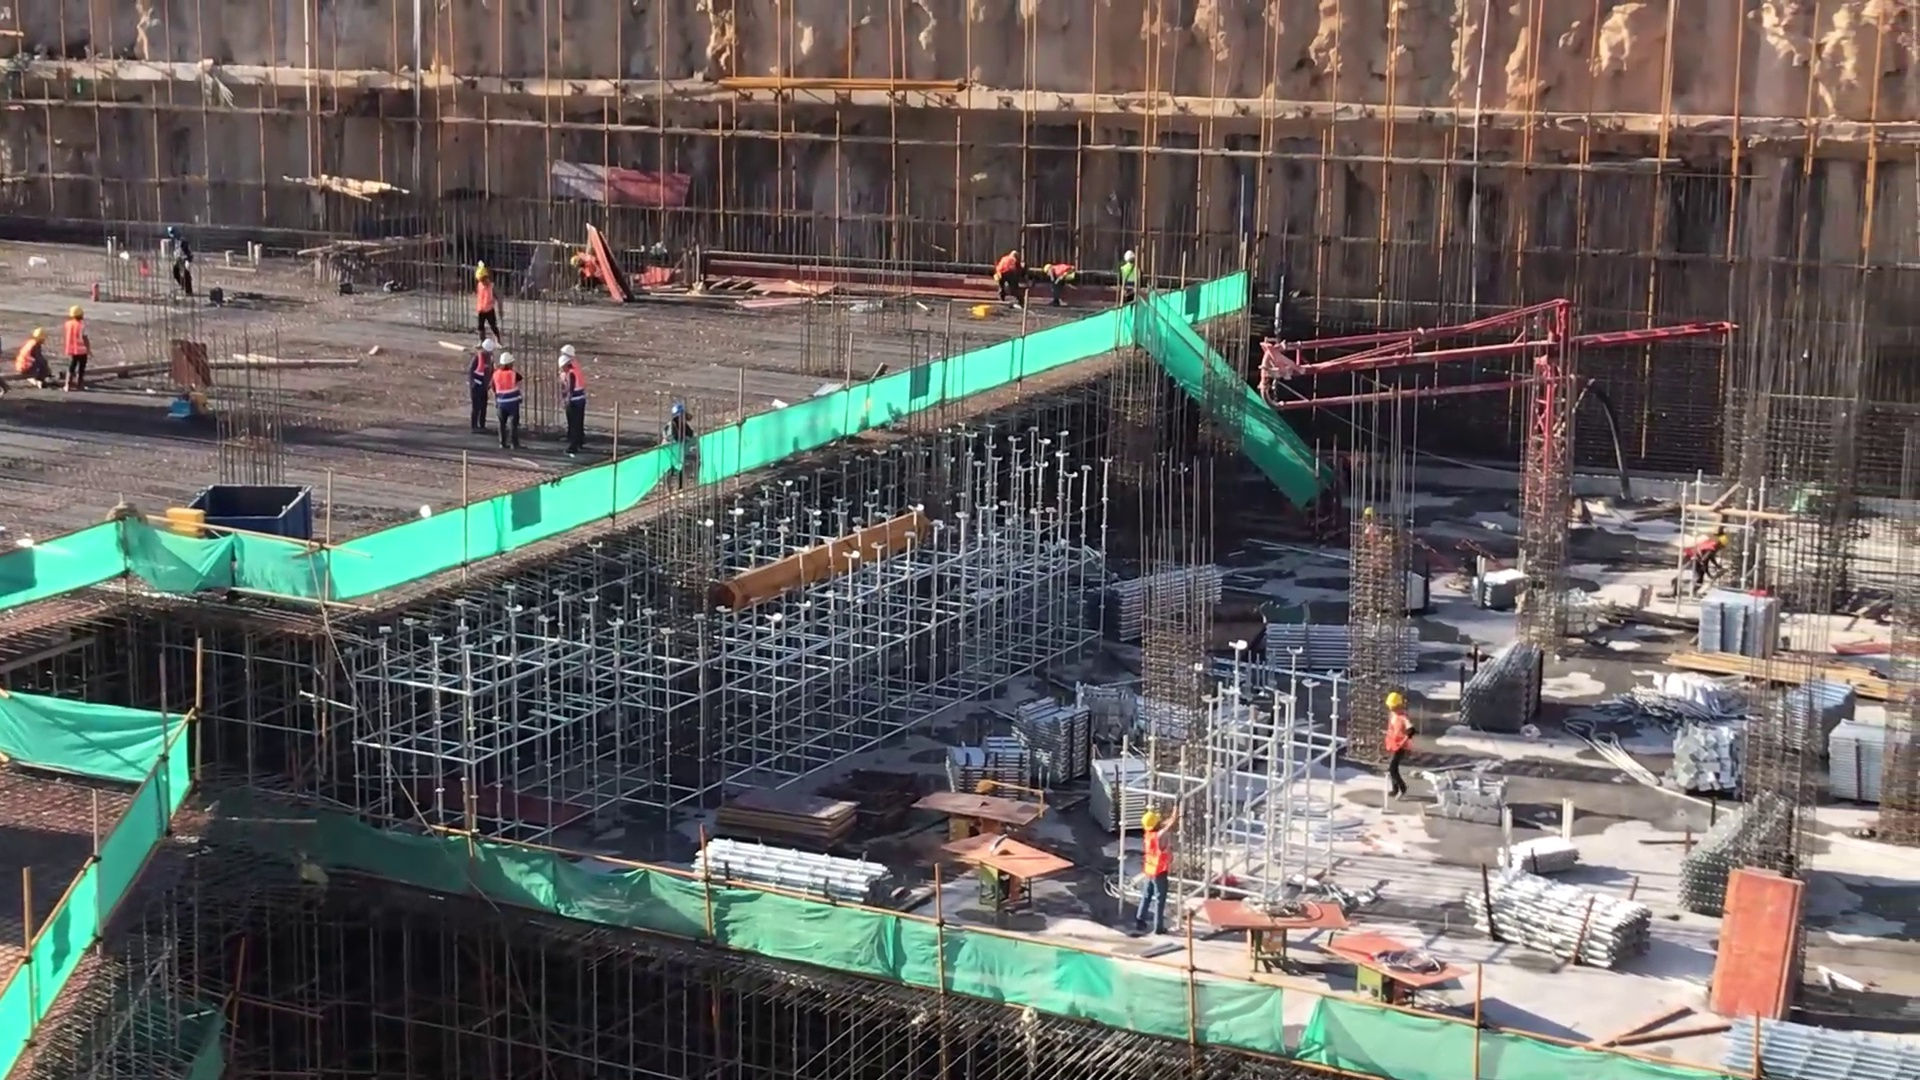board: (1703, 868, 1806, 1021), (705, 787, 862, 842)
brick: (1674, 718, 1751, 798), (1078, 673, 1143, 756)
ebox: (160, 509, 206, 541)
helmet: (1138, 810, 1166, 832), (65, 305, 91, 323), (29, 327, 53, 344), (568, 249, 583, 273), (473, 264, 489, 285), (670, 404, 689, 419), (1385, 695, 1406, 708), (496, 352, 518, 364), (1123, 250, 1139, 266), (554, 355, 573, 367), (561, 341, 576, 356), (165, 224, 182, 238), (481, 339, 494, 351), (1719, 534, 1730, 548), (1043, 262, 1054, 270)
hopper: (195, 482, 320, 550)
person: (1137, 808, 1178, 935), (491, 353, 526, 452), (1383, 692, 1413, 797), (665, 403, 697, 496), (1673, 532, 1728, 586), (557, 356, 586, 455), (470, 265, 504, 346), (61, 305, 91, 392), (467, 340, 494, 433), (165, 222, 195, 300), (14, 327, 53, 387), (991, 246, 1026, 305), (1045, 262, 1081, 308), (1116, 250, 1143, 301), (573, 253, 602, 291)
scaffold: (1459, 849, 1656, 973), (1672, 798, 1800, 924), (691, 841, 894, 914), (1092, 555, 1226, 651), (1733, 1011, 1916, 1080), (1262, 617, 1425, 673), (1459, 640, 1549, 737), (944, 731, 1043, 804), (1018, 697, 1089, 787), (1776, 680, 1854, 754), (1098, 755, 1154, 836)
vest: (1143, 829, 1175, 881), (494, 367, 525, 412), (1385, 710, 1413, 753), (65, 320, 91, 362), (16, 339, 43, 376), (1681, 536, 1717, 563), (563, 365, 587, 406), (473, 281, 500, 317), (1050, 261, 1076, 290), (1119, 261, 1143, 290), (474, 354, 491, 393), (999, 252, 1017, 275)
